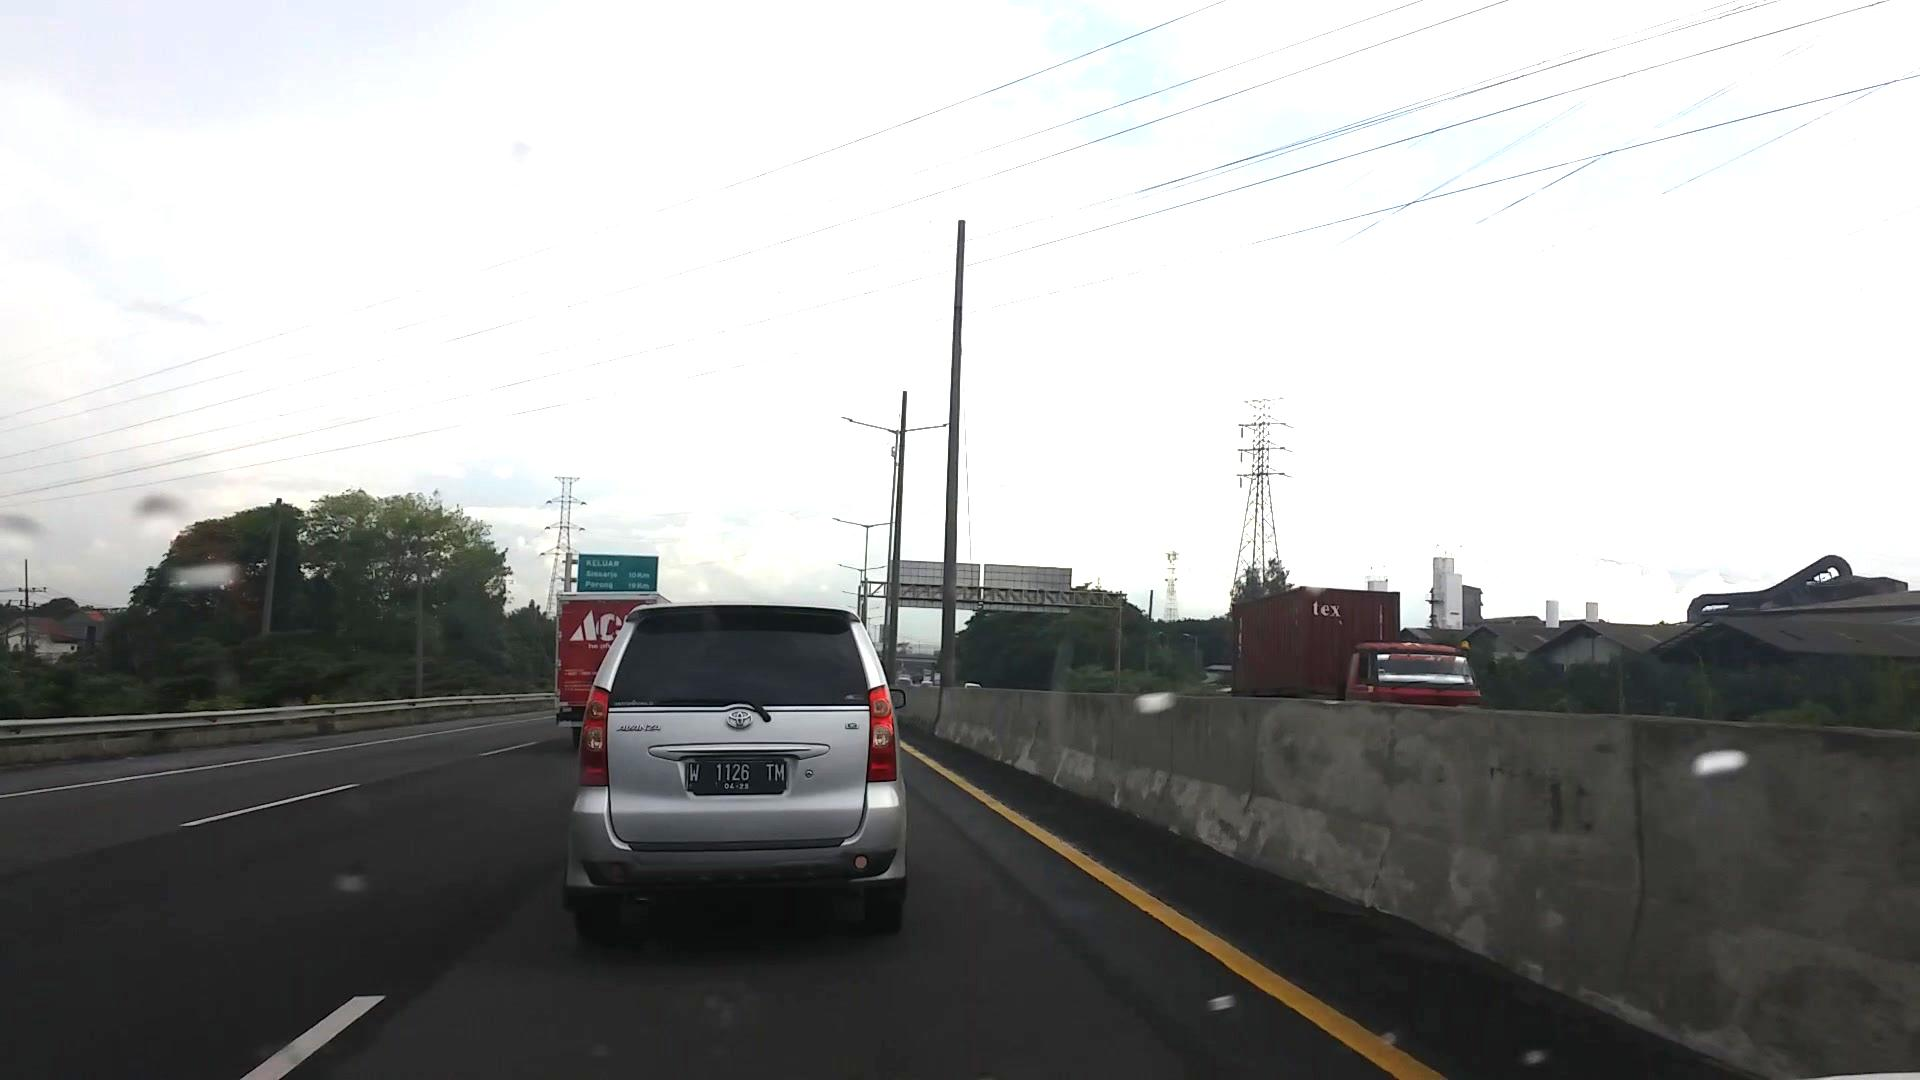plate_positive: (684, 760, 787, 794)
